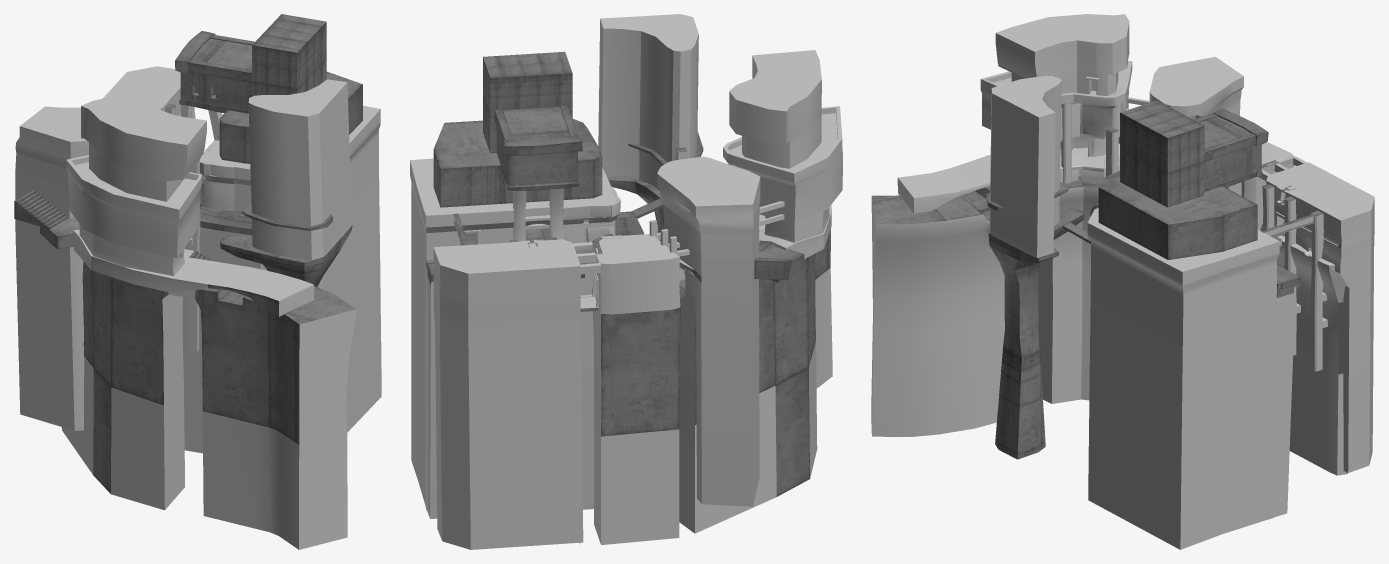
File: CorridorSculpture_00.fbx
3 views of the same model, side by side, from view 1: azimuth 30°, elevation 25°; view 2: azimuth 150°, elevation 25°; view 3: azimuth 270°, elevation 25° (orthographic). The views are drawn at different scales.
Visible parts, largest first — view 1: Cube.058, Cube.059, Cube.054, Cube.052, Cube.055, CorridorSculpture_00, Cube.056, Cube.053, Cube.061; view 2: Cube.058, Cube.056, Cube.057, Cube.054, Cube.059, Cube.052, CorridorSculpture_00, Cube.055, Cube.053, Cube.061; view 3: Cube.054, Cube.058, Cube.056, Cube.052, Cube.059, CorridorSculpture_00, Cube.055, Cube.057.
Part boxes in pixels (x1,y1,x2,y2): Cube.058: [15, 106, 356, 549]; Cube.059: [66, 93, 314, 352]; Cube.054: [201, 14, 381, 432]; Cube.052: [220, 79, 352, 286]; Cube.055: [175, 31, 254, 113]; CorridorSculpture_00: [179, 110, 266, 453]; Cube.056: [103, 66, 195, 118]; Cube.053: [14, 190, 212, 260]; Cube.061: [200, 151, 235, 210]; Cube.058: [657, 156, 832, 533]; Cube.056: [433, 237, 583, 549]; Cube.057: [573, 219, 689, 544]; Cube.054: [410, 51, 616, 510]; Cube.059: [675, 50, 842, 258]; Cube.052: [598, 14, 703, 240]; CorridorSculpture_00: [426, 188, 644, 518]; Cube.055: [494, 105, 582, 190]; Cube.053: [679, 242, 804, 295]; Cube.061: [581, 186, 620, 278]; Cube.054: [1087, 100, 1279, 549]; Cube.058: [871, 56, 1243, 436]; Cube.056: [1260, 162, 1374, 475]; Cube.052: [986, 75, 1090, 459]; Cube.059: [897, 14, 1132, 215]; CorridorSculpture_00: [1226, 184, 1338, 517]; Cube.055: [1194, 108, 1268, 191]; Cube.057: [1235, 142, 1306, 229].
Bounding box in the file's own units: 6256 × 6489 × 7739.
